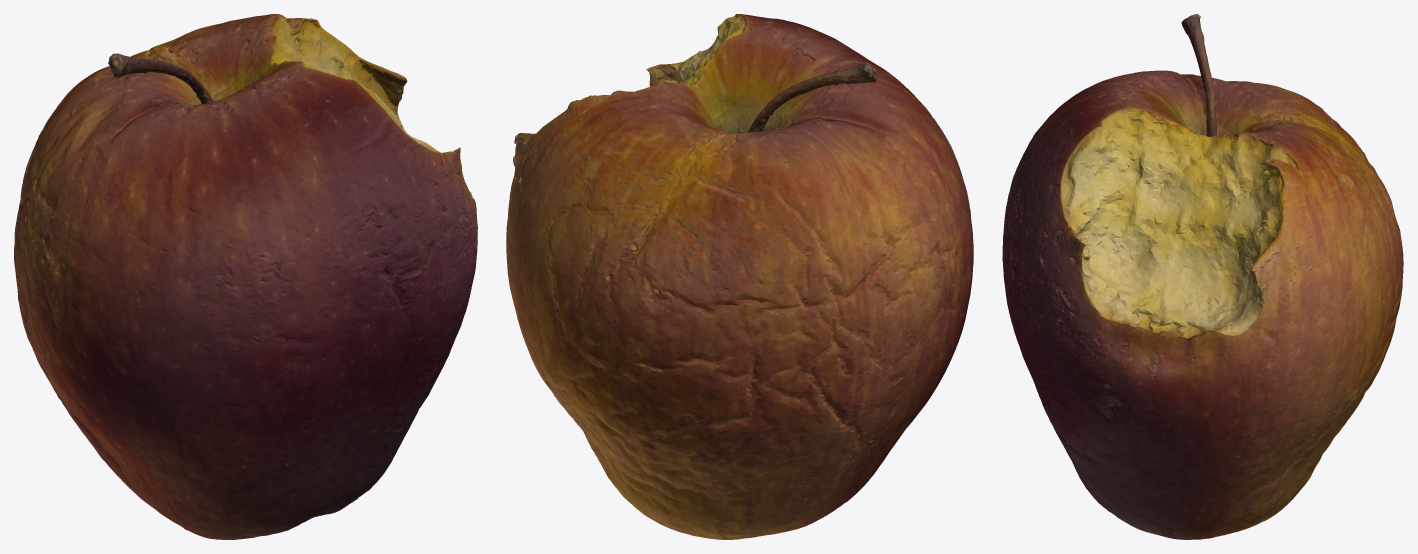
3 views of the same model, side by side, from view 1: azimuth 30°, elevation 25°; view 2: azimuth 150°, elevation 25°; view 3: azimuth 270°, elevation 25° (orthographic). The views are drawn at different scales.
Parts seen in each view (by area): view 1: Apple_01_Apple_1_u1_v1.001_0; view 2: Apple_01_Apple_1_u1_v1.001_0; view 3: Apple_01_Apple_1_u1_v1.001_0.
Boxes of the visible parts, bbox=[...] form: Apple_01_Apple_1_u1_v1.001_0: bbox=[14, 14, 477, 539]; Apple_01_Apple_1_u1_v1.001_0: bbox=[506, 14, 973, 539]; Apple_01_Apple_1_u1_v1.001_0: bbox=[1002, 14, 1403, 539].
Bounding box in the file's own units: 19.48 × 21.77 × 18.35.
1 material, 1 textured.
